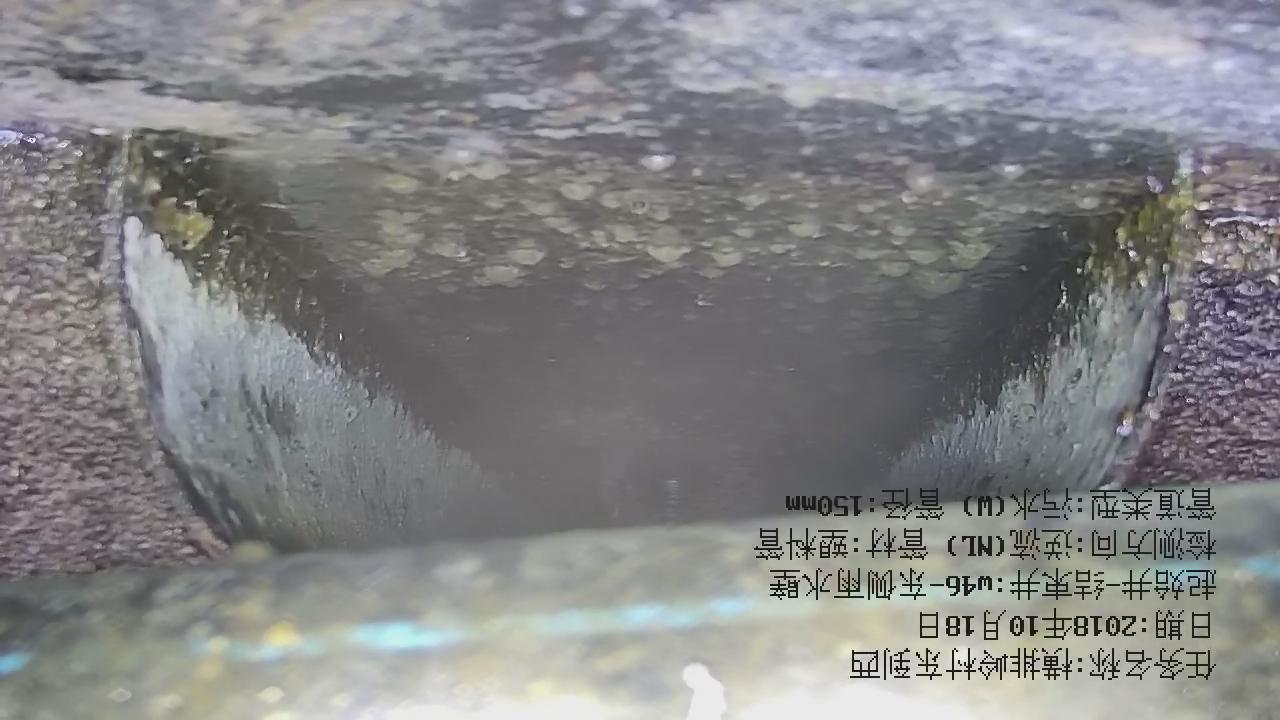FZ: (1, 1, 1280, 495)
